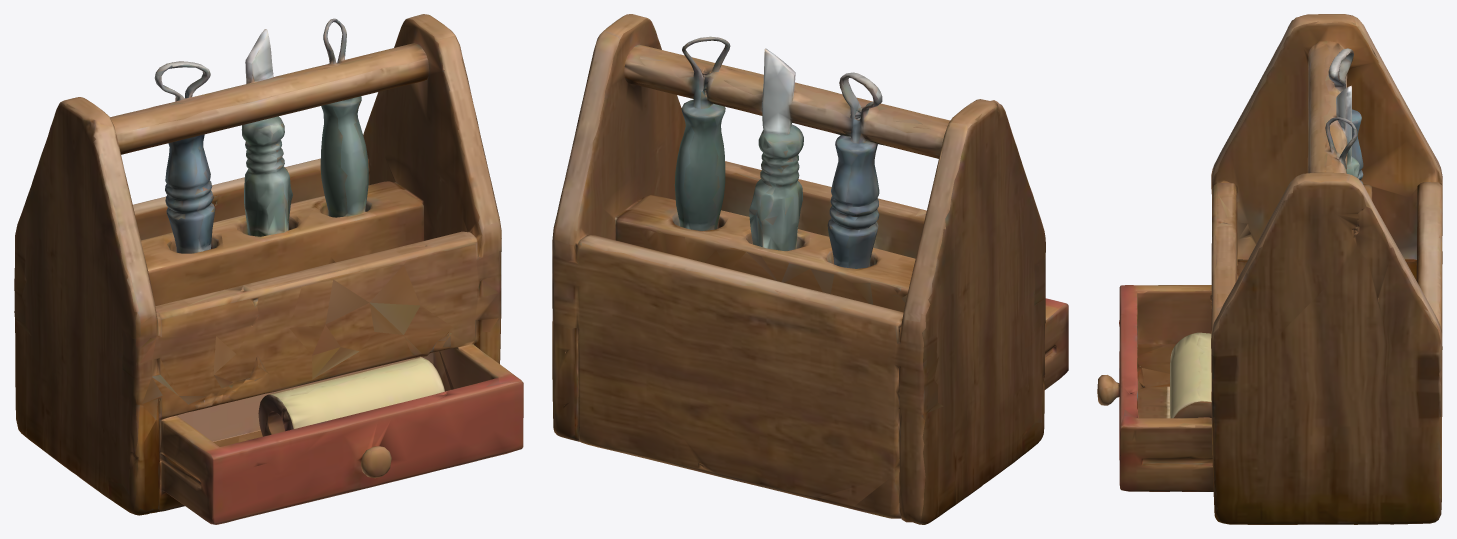
The model's file is sc-tool-caddy.glb.
3 views of the same model, side by side, from view 1: azimuth 30°, elevation 25°; view 2: azimuth 150°, elevation 25°; view 3: azimuth 270°, elevation 25° (orthographic). The views are drawn at different scales.
Parts seen in each view (by area): view 1: geometry_0; view 2: geometry_0; view 3: geometry_0.
Boxes of the visible parts, left/top/right/bottom form: geometry_0: left=14, top=14, right=523, bottom=524; geometry_0: left=552, top=14, right=1068, bottom=524; geometry_0: left=1097, top=14, right=1442, bottom=524.
Size of the model in its own units: 0.9962 by 1 by 0.8565.
Materials: 1 (1 with a texture image).
